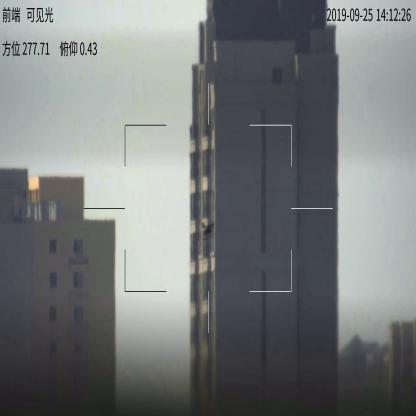uav: (200, 218, 214, 241)
